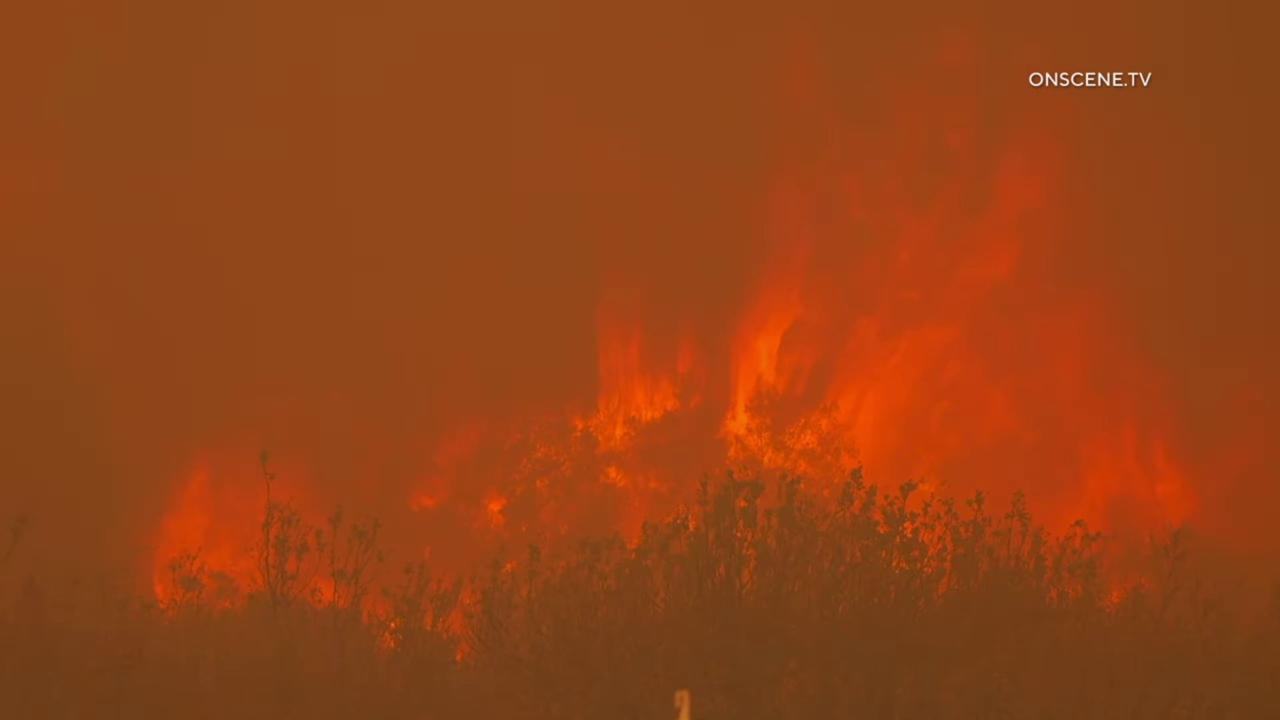fire: (403, 0, 1280, 624), (149, 431, 485, 661)
smoke: (0, 0, 1280, 720)
